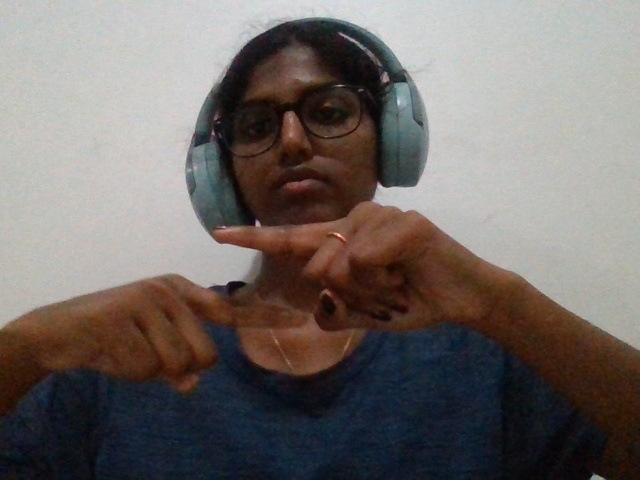Sign: (7, 145, 558, 461)
